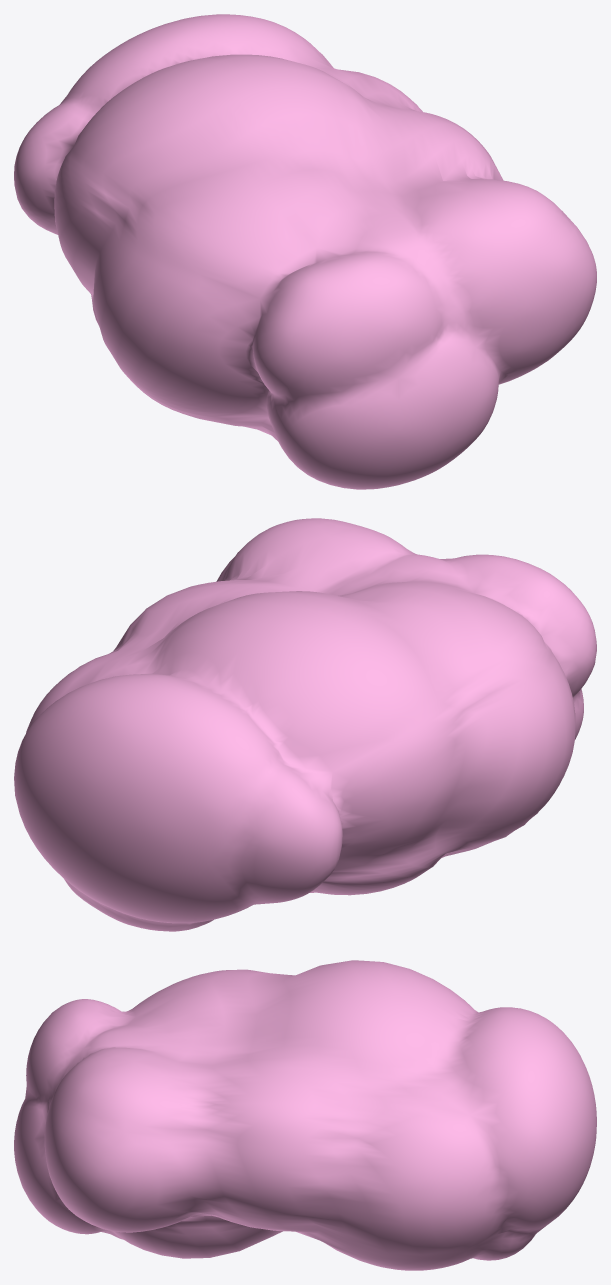
File: cloud3.fbx
3 views of the same model, one above another, from view 1: azimuth 30°, elevation 25°; view 2: azimuth 150°, elevation 25°; view 3: azimuth 270°, elevation 25° (orthographic). The views are drawn at different scales.
Visible parts, largest first — view 1: cloud3; view 2: cloud3; view 3: cloud3.
Boxes of the visible parts, x1,y1,x2,y2 form: cloud3: (14, 14, 596, 489); cloud3: (14, 518, 596, 931); cloud3: (14, 960, 596, 1270).
Bounding box in the file's own units: 780 × 527 × 1086.
